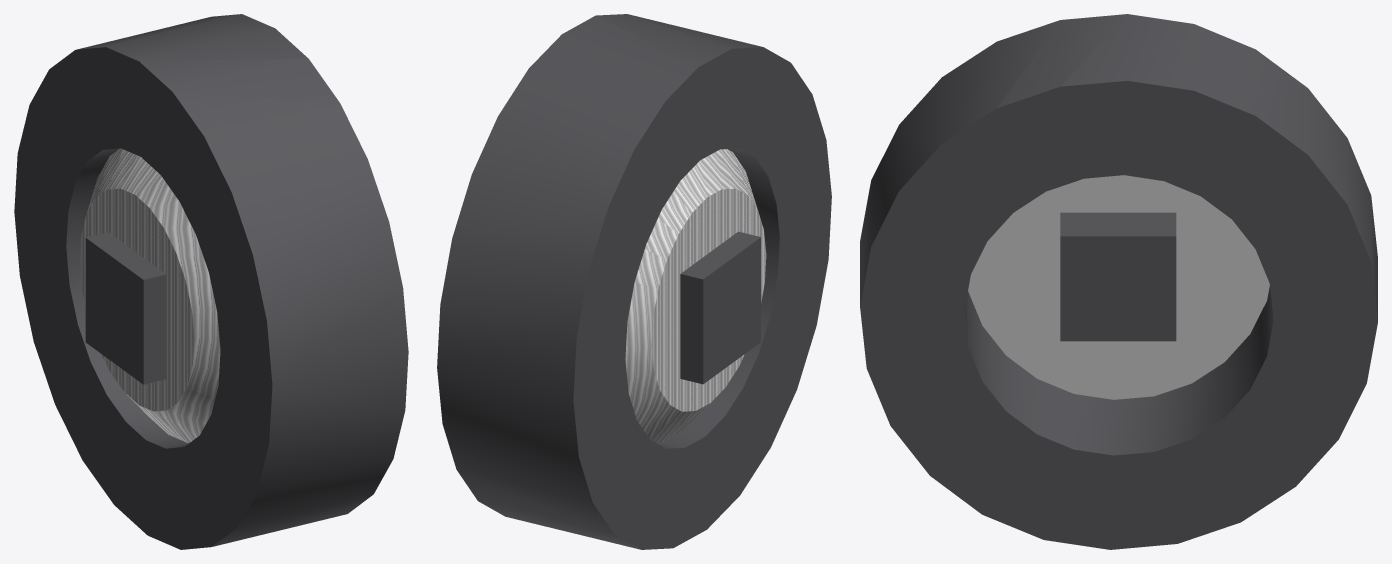
Rendered from llanta.obj.
3 renders of one model, left to right at view 1: azimuth 30°, elevation 25°; view 2: azimuth 150°, elevation 25°; view 3: azimuth 270°, elevation 25°, orthographic.
Parts seen in each view (by area): view 1: pCube2; view 2: pCube2; view 3: pCube2.
Boxes of the visible parts, x1=… form: pCube2: x1=14, y1=14, x2=408, y2=549; pCube2: x1=437, y1=14, x2=831, y2=549; pCube2: x1=860, y1=14, x2=1377, y2=549.
Bounding box in the file's own units: 0.0165 × 0.0447 × 0.0447.
